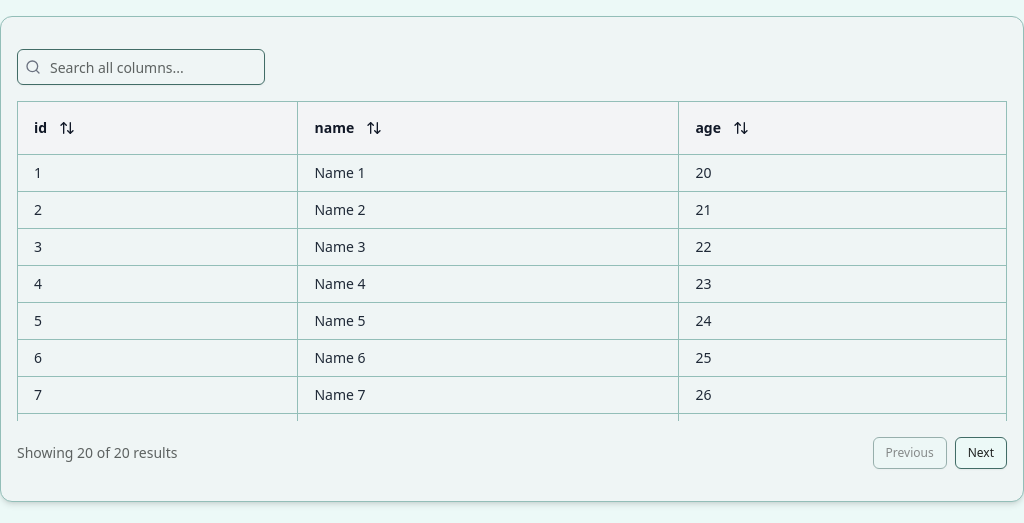
Scenario: QueryResult Component › handles pagination correctly
Expected: the text "Name 1" is shown, [314,163,366,182]
// Click on the 'Next' button to go to the next page
What coordinates should you click on to do the following:
click the button "Next"
I would click on:
 (981, 453)
Its box is [955,437,1007,469].
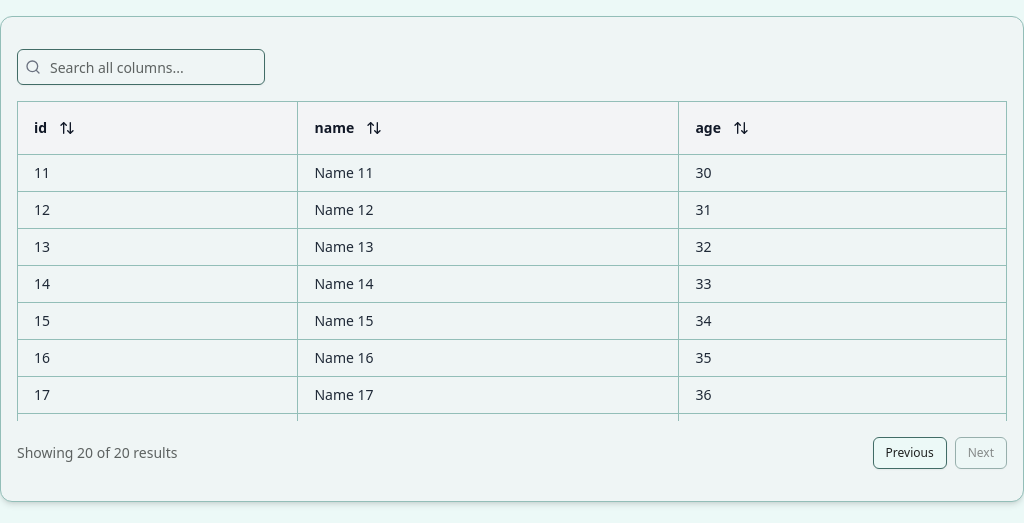
Expected: the text "Name 11" is shown, [314,163,374,182]
